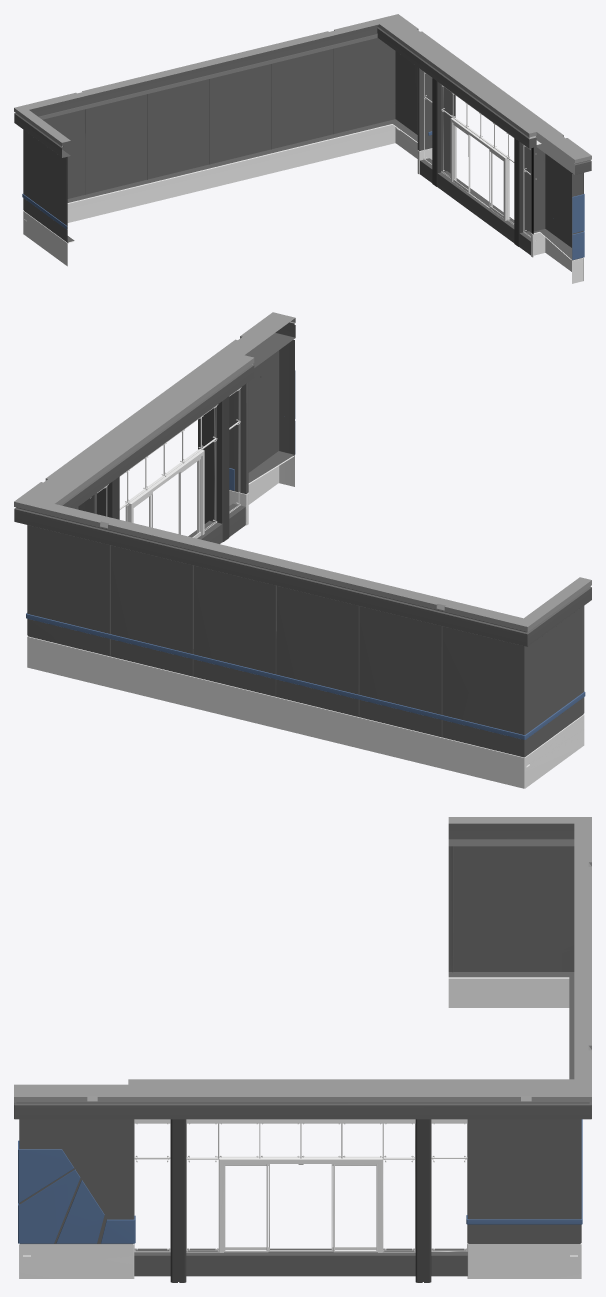
3 views of the same model, one above another, from view 1: azimuth 30°, elevation 25°; view 2: azimuth 150°, elevation 25°; view 3: azimuth 270°, elevation 25° (orthographic). The views are drawn at different scales.
Parts seen in each view (by area): view 1: SM_H_Building_FutureTech_HLight_01_ExterWall_04; view 2: SM_H_Building_FutureTech_HLight_01_ExterWall_04; view 3: SM_H_Building_FutureTech_HLight_01_ExterWall_04.
Boxes of the visible parts, x1=… form: SM_H_Building_FutureTech_HLight_01_ExterWall_04: x1=14, y1=14, x2=591, y2=283; SM_H_Building_FutureTech_HLight_01_ExterWall_04: x1=14, y1=312, x2=591, y2=788; SM_H_Building_FutureTech_HLight_01_ExterWall_04: x1=14, y1=817, x2=591, y2=1282.
Bounding box in the file's own units: 972 × 1114 × 346.
